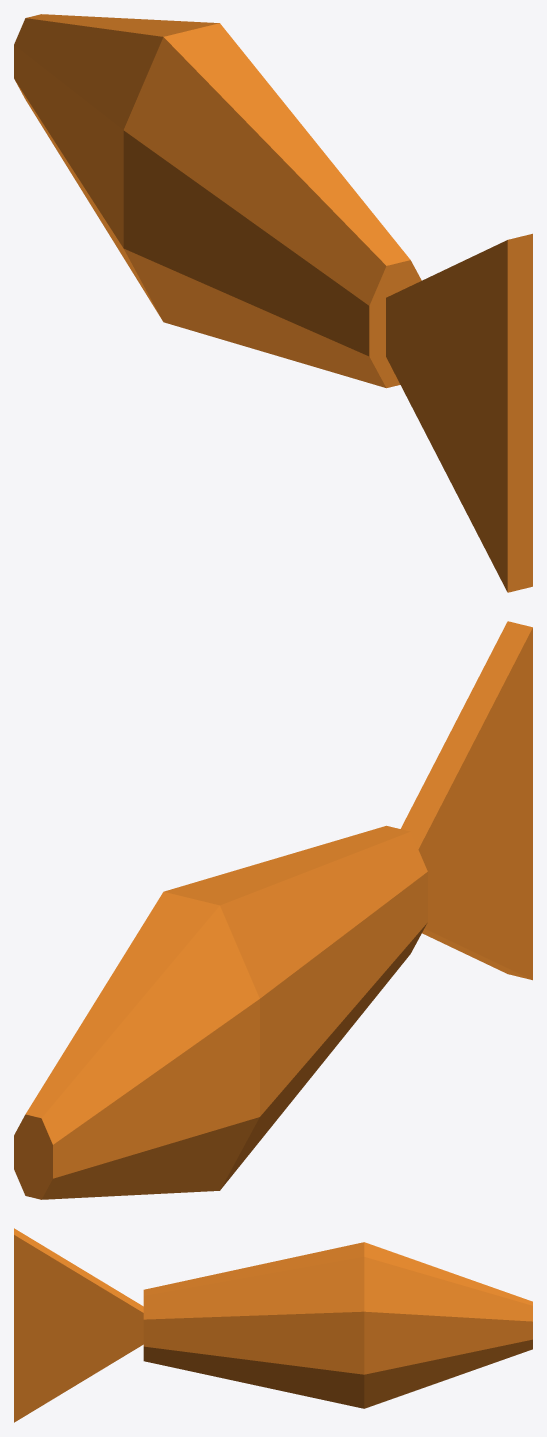
The model's file is animal_fish.glb.
3 renders of one model, top to bottom at view 1: azimuth 30°, elevation 25°; view 2: azimuth 150°, elevation 25°; view 3: azimuth 270°, elevation 25°, orthographic. The views are drawn at different scales.
Visible parts, largest first — view 1: animal_fish__mesh; view 2: animal_fish__mesh; view 3: animal_fish__mesh.
Part boxes in pixels (x1=…): animal_fish__mesh: x1=14, y1=14, x2=532, y2=592; animal_fish__mesh: x1=14, y1=621, x2=532, y2=1199; animal_fish__mesh: x1=14, y1=1228, x2=532, y2=1422.
Size of the model in its own units: 0.0647 by 0.16 by 0.4.
